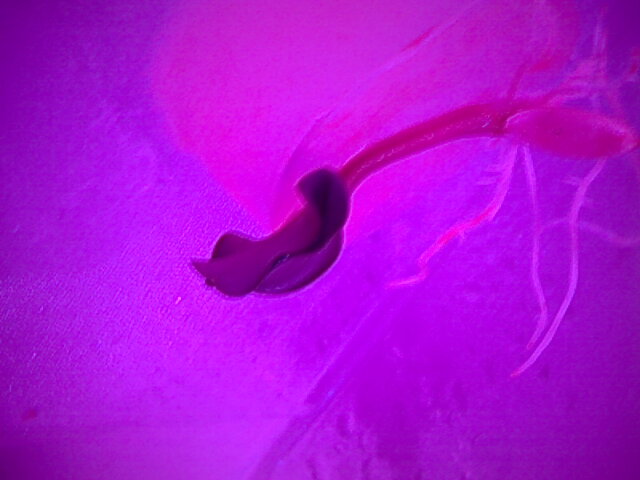seedling: (184, 46, 628, 373)
